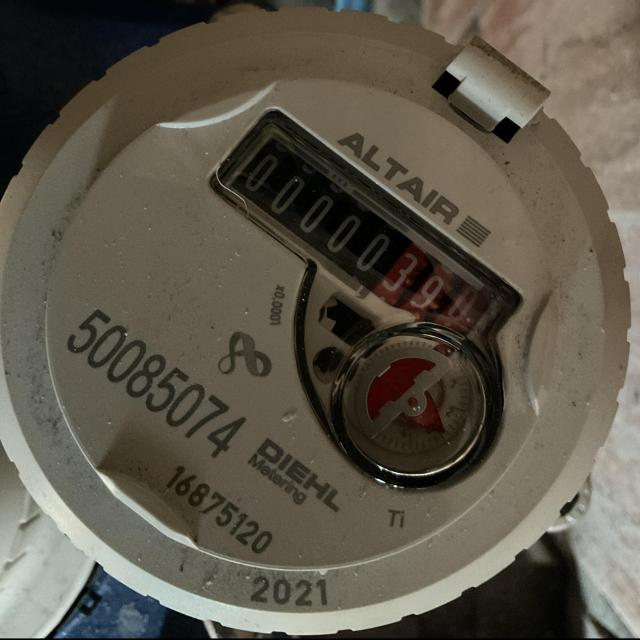gaz_meter: (45, 77, 565, 569)
indication: (229, 124, 500, 345)
